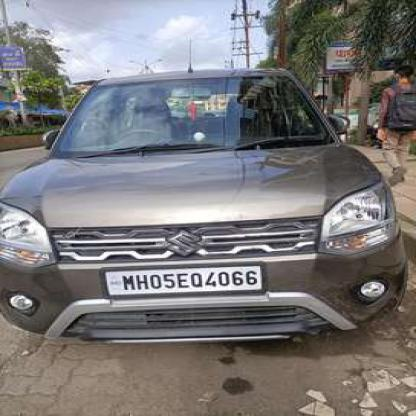license_plate: (102, 264, 258, 294)
